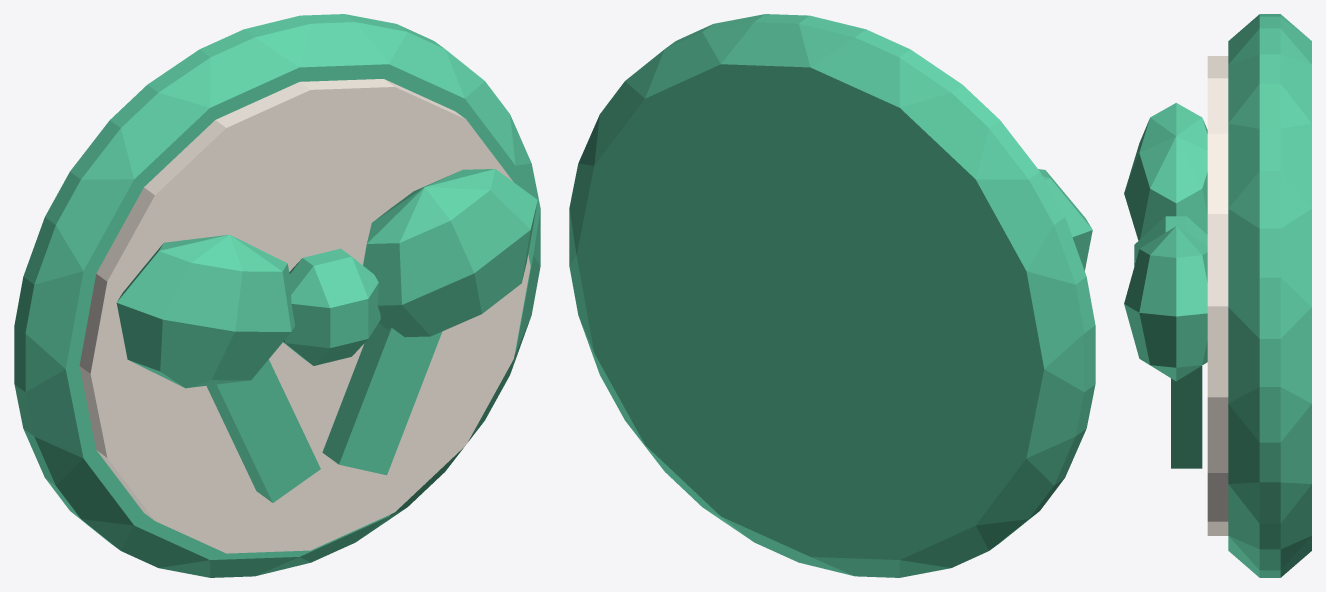
The model's file is CleanACat_Prop_BowButtonMint.fbx.
3 renders of one model, left to right at view 1: azimuth 30°, elevation 25°; view 2: azimuth 150°, elevation 25°; view 3: azimuth 270°, elevation 25°, orthographic. The views are drawn at different scales.
Parts seen in each view (by area): view 1: CleanACat_Prop_BowButtonMint; view 2: CleanACat_Prop_BowButtonMint; view 3: CleanACat_Prop_BowButtonMint.
Part boxes in pixels (left/top/right/bottom): CleanACat_Prop_BowButtonMint: left=14, top=14, right=540, bottom=577; CleanACat_Prop_BowButtonMint: left=569, top=14, right=1095, bottom=577; CleanACat_Prop_BowButtonMint: left=1124, top=14, right=1311, bottom=577.
Size of the model in its own units: 1.08 by 1.08 by 0.36.
Materials: 1 (1 with a texture image).
